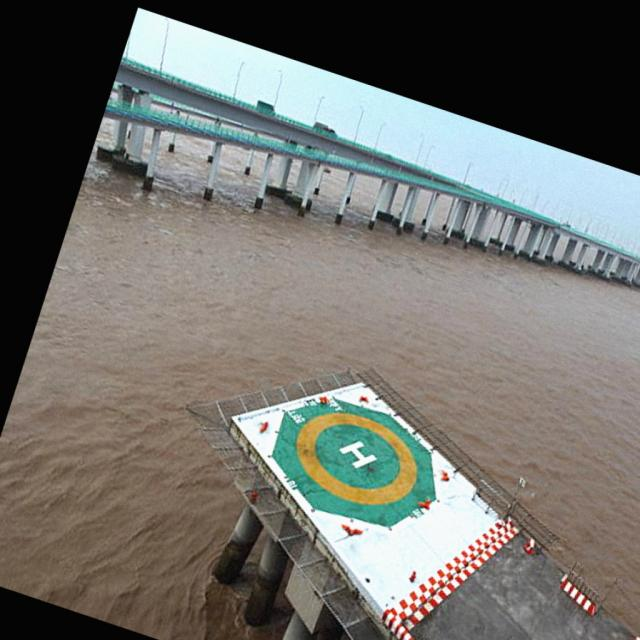helipad: (292, 407, 420, 509)
